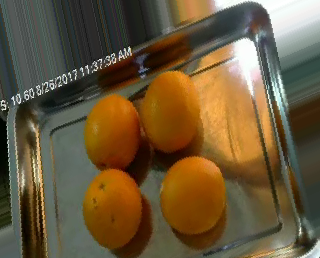Orange: (158, 154, 225, 234), (140, 70, 201, 153), (81, 169, 142, 250), (83, 93, 141, 171)
